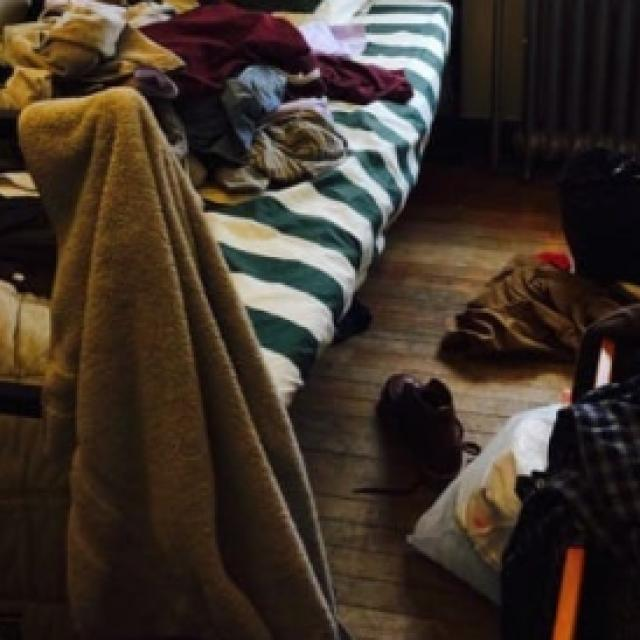mess: (0, 0, 364, 301)
